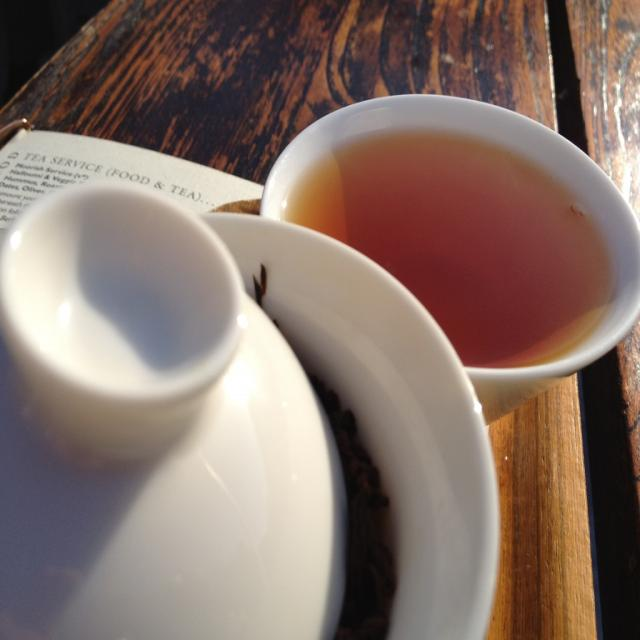Tea: (277, 124, 627, 370)
